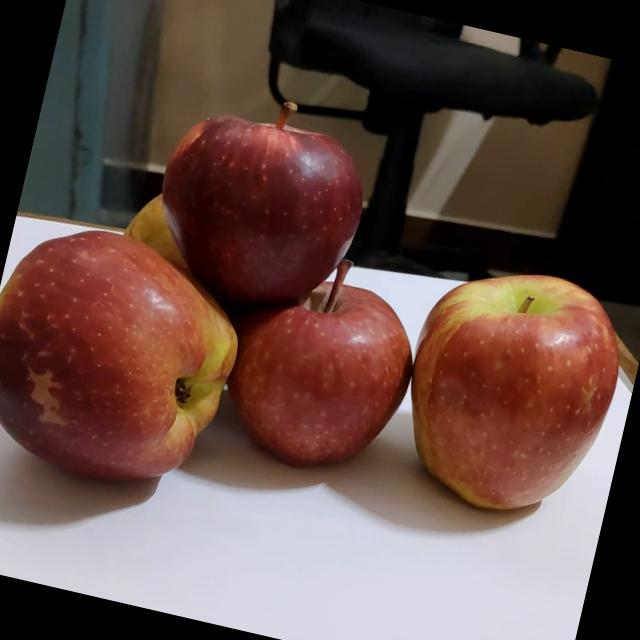apple: (0, 206, 263, 512), (382, 245, 640, 532), (136, 68, 388, 324), (205, 234, 436, 488), (110, 176, 228, 283)
